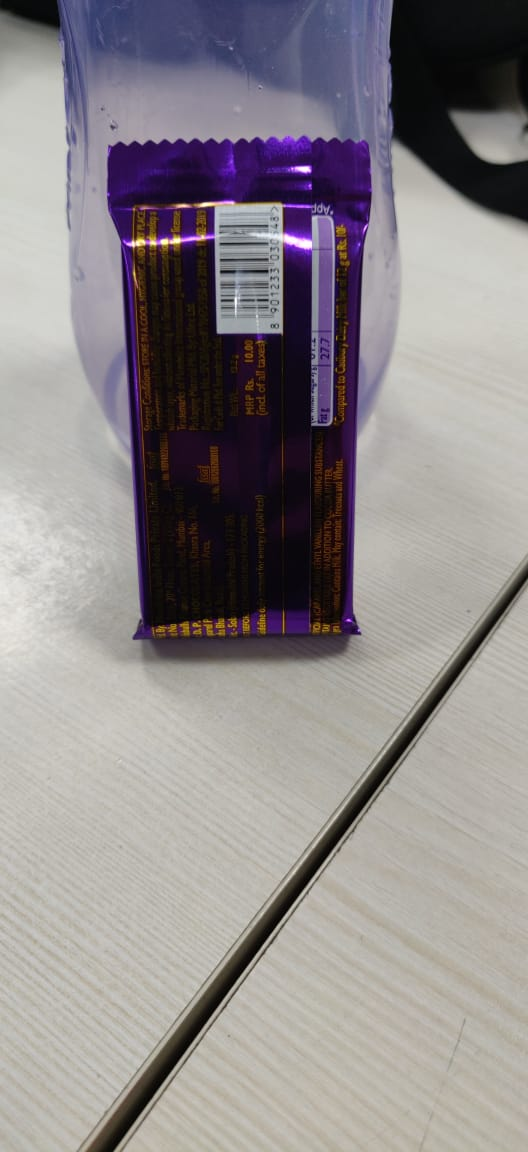dairy milk: (96, 130, 380, 649)
